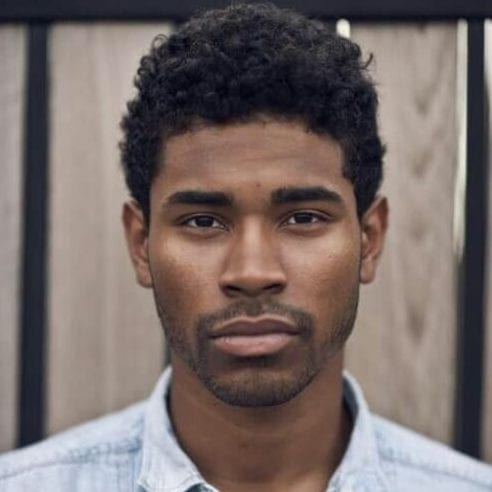bare: (145, 242, 365, 402)
